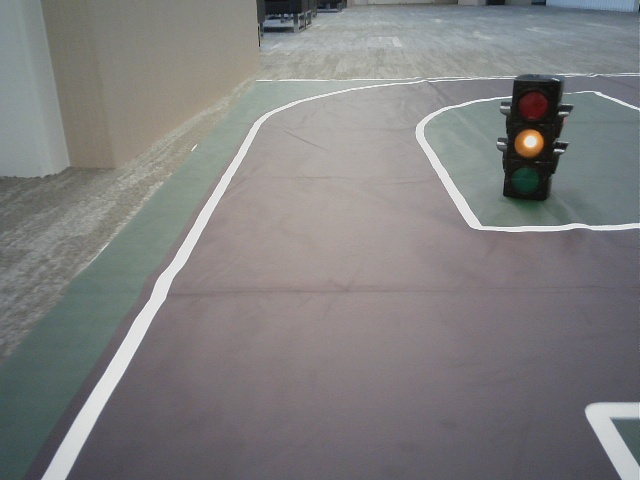yellow: (505, 87, 549, 195)
